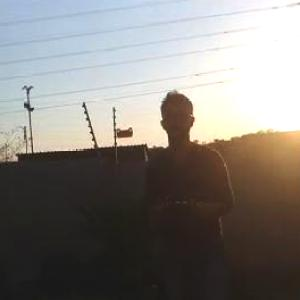follow: (146, 75, 249, 299)
